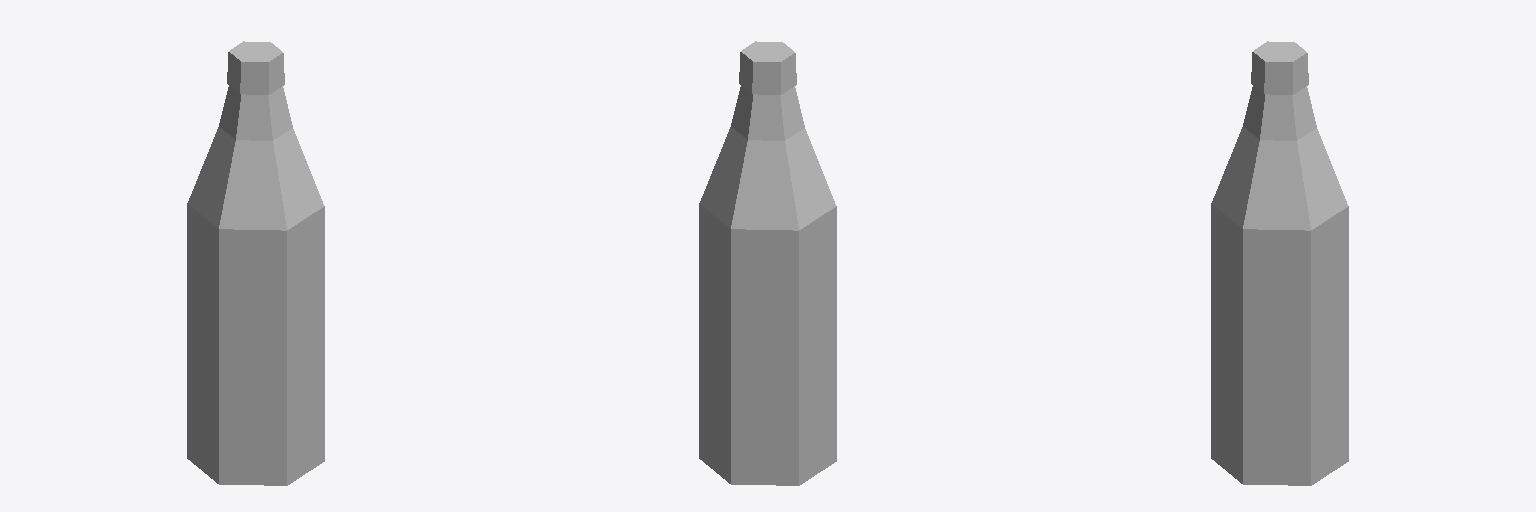
File: drink_002.obj
3 views of the same model, side by side, from view 1: azimuth 30°, elevation 25°; view 2: azimuth 150°, elevation 25°; view 3: azimuth 270°, elevation 25° (orthographic).
Parts seen in each view (by area): view 1: drink_002; view 2: drink_002; view 3: drink_002.
Boxes of the visible parts, x1=… form: drink_002: x1=187, y1=41, x2=324, y2=485; drink_002: x1=699, y1=41, x2=836, y2=485; drink_002: x1=1211, y1=41, x2=1348, y2=485.
Size of the model in its own units: 0.0802 by 0.2961 by 0.09.